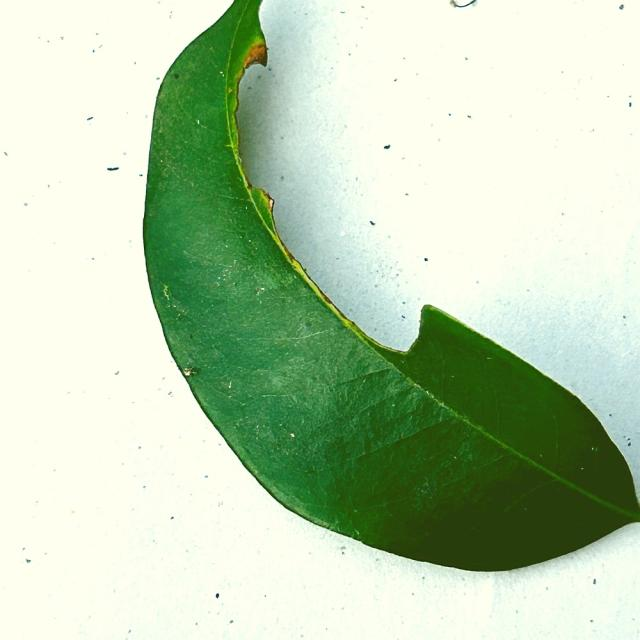Deficiency Leaf: (237, 33, 429, 348)
Lychee: (143, 0, 639, 570)
